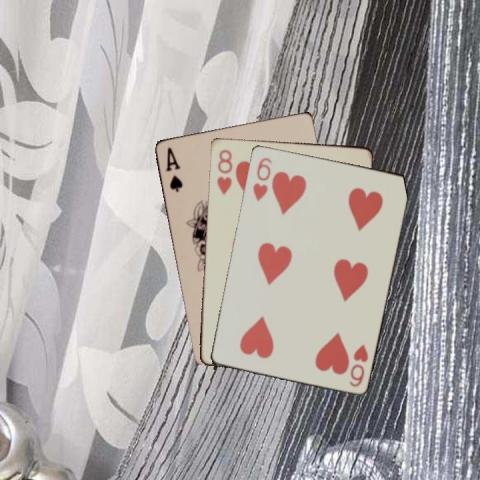6h: (250, 154, 274, 202), (346, 341, 369, 388)
8h: (214, 146, 234, 196)
As: (163, 144, 184, 193)
